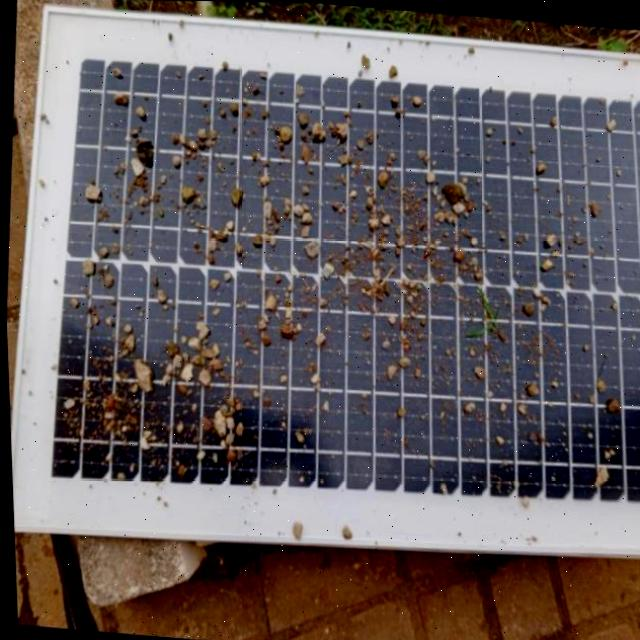Anomaly Solar Panel: (5, 6, 640, 567)
Surface Contaminant: (31, 14, 640, 556)
